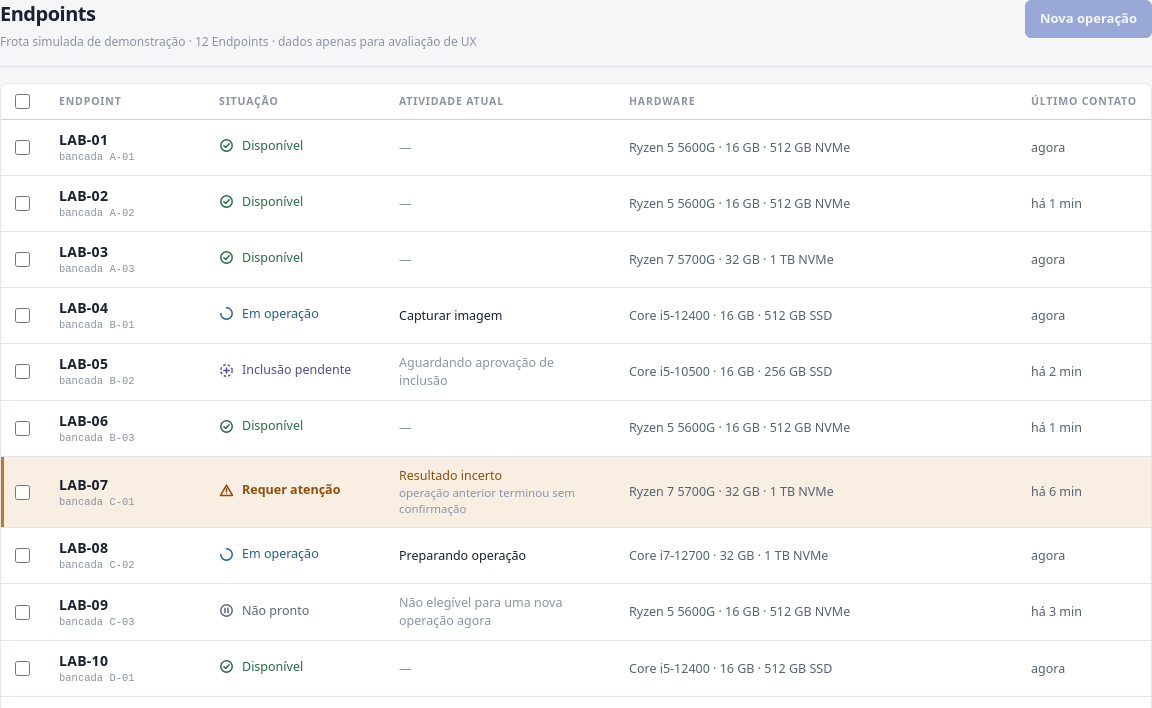
Scenario: /endpoints › deselecting a row updates the count and breakdown
Click the checkbox named "Selecionar LAB-03" at point(22, 260), box x1=15 y1=252 x2=30 y2=267
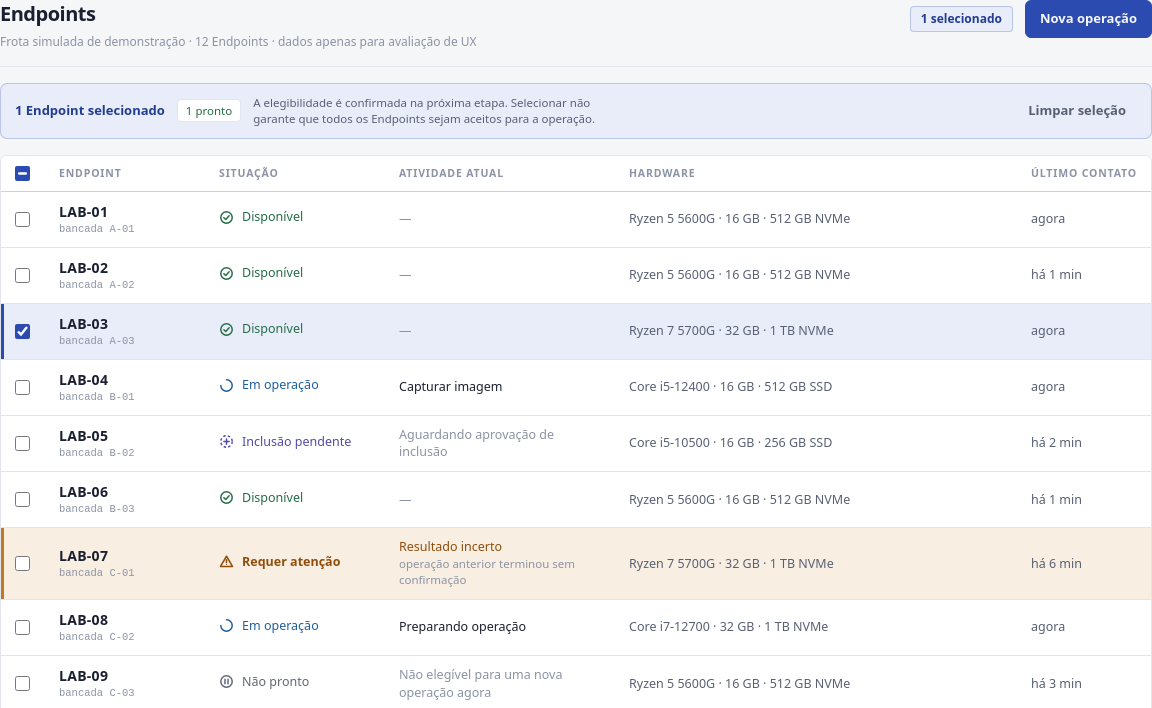
Click the checkbox named "Selecionar LAB-07" at point(22, 564), box x1=15 y1=556 x2=30 y2=571
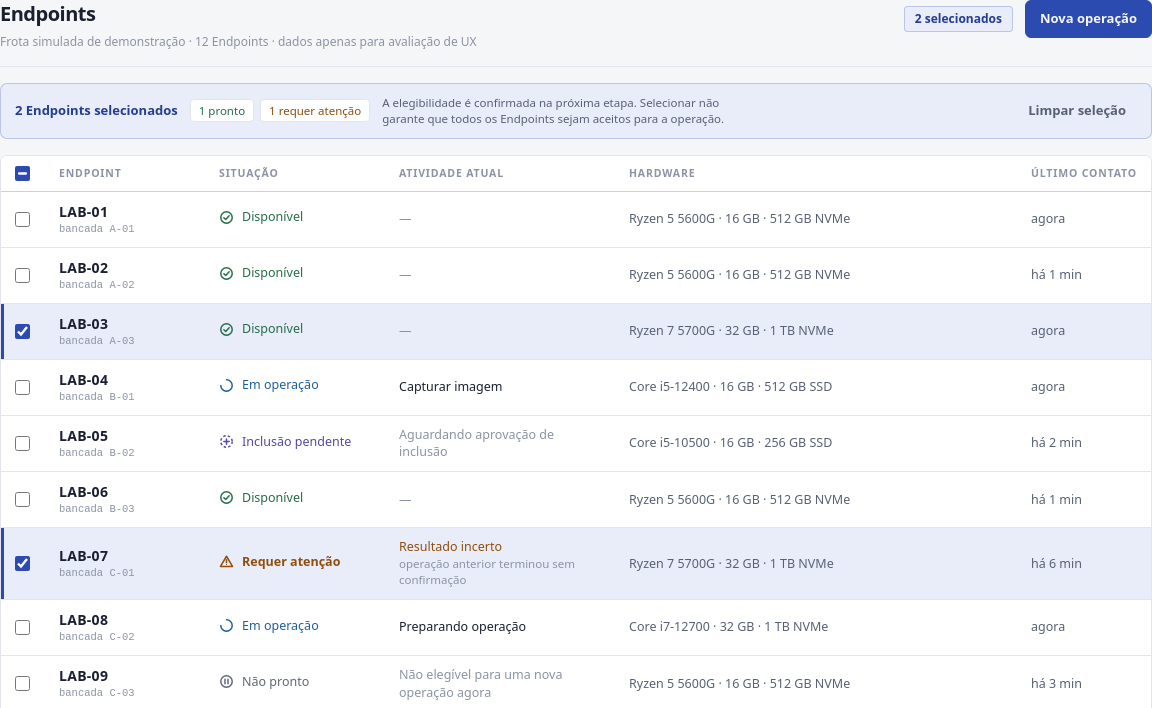
Click the checkbox named "Selecionar LAB-09" at point(22, 684), box x1=15 y1=676 x2=30 y2=691
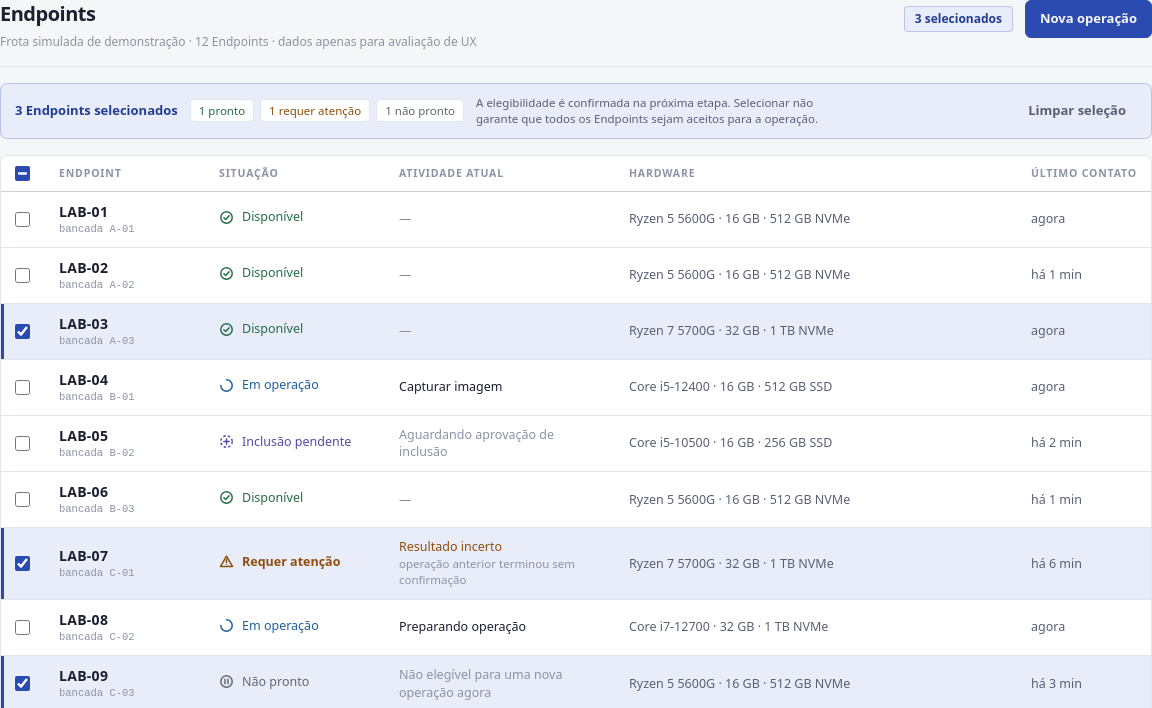
Click the checkbox named "Selecionar LAB-07" at point(22, 564), box x1=15 y1=556 x2=30 y2=571
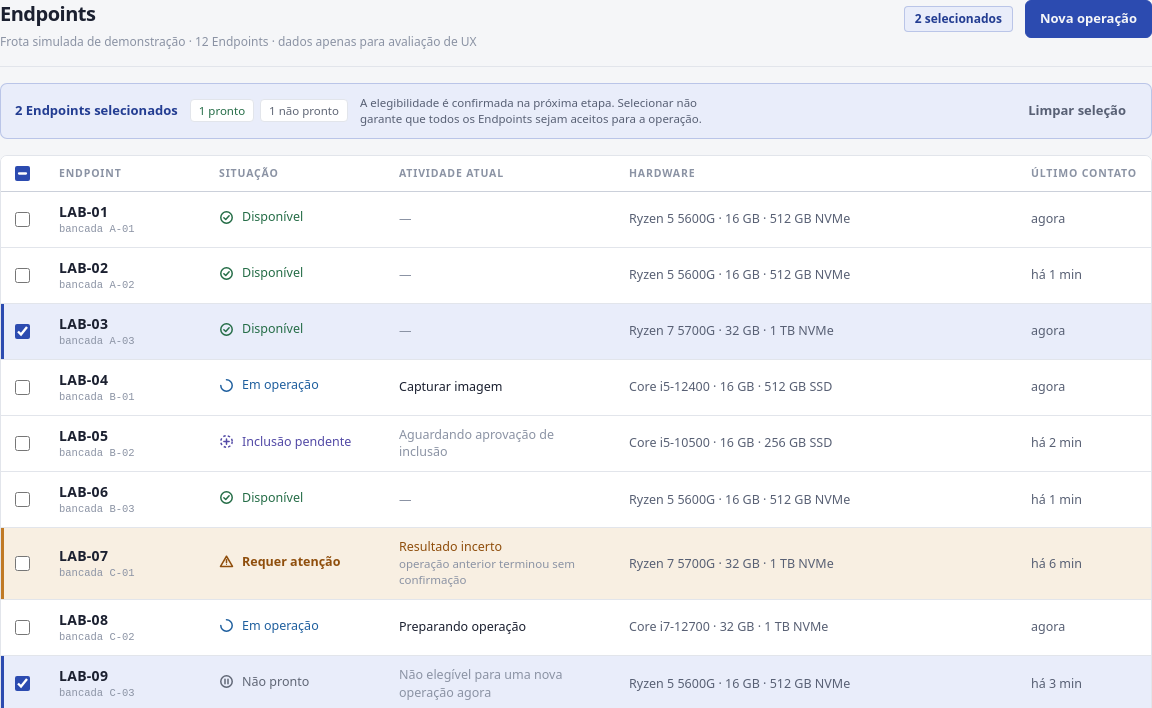
Now the element named "Resumo da seleção" shows "2 Endpoints selecionados", box x1=15 y1=101 x2=178 y2=119
Now the element "Resumo da seleção" no longer shows "requer atenção"
